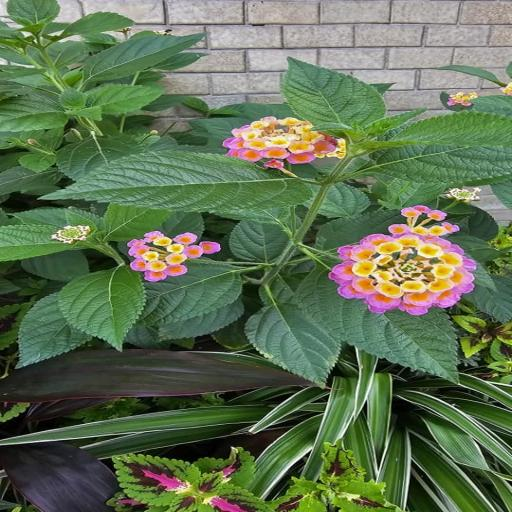Lantana: (327, 230, 486, 321), (216, 115, 340, 171), (120, 229, 226, 287)
